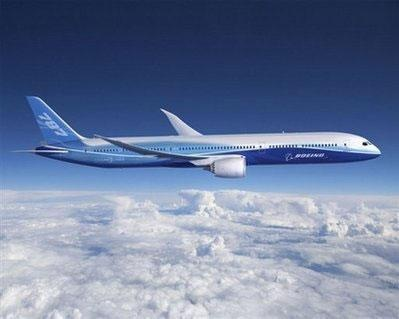airplane: (8, 98, 385, 176)
